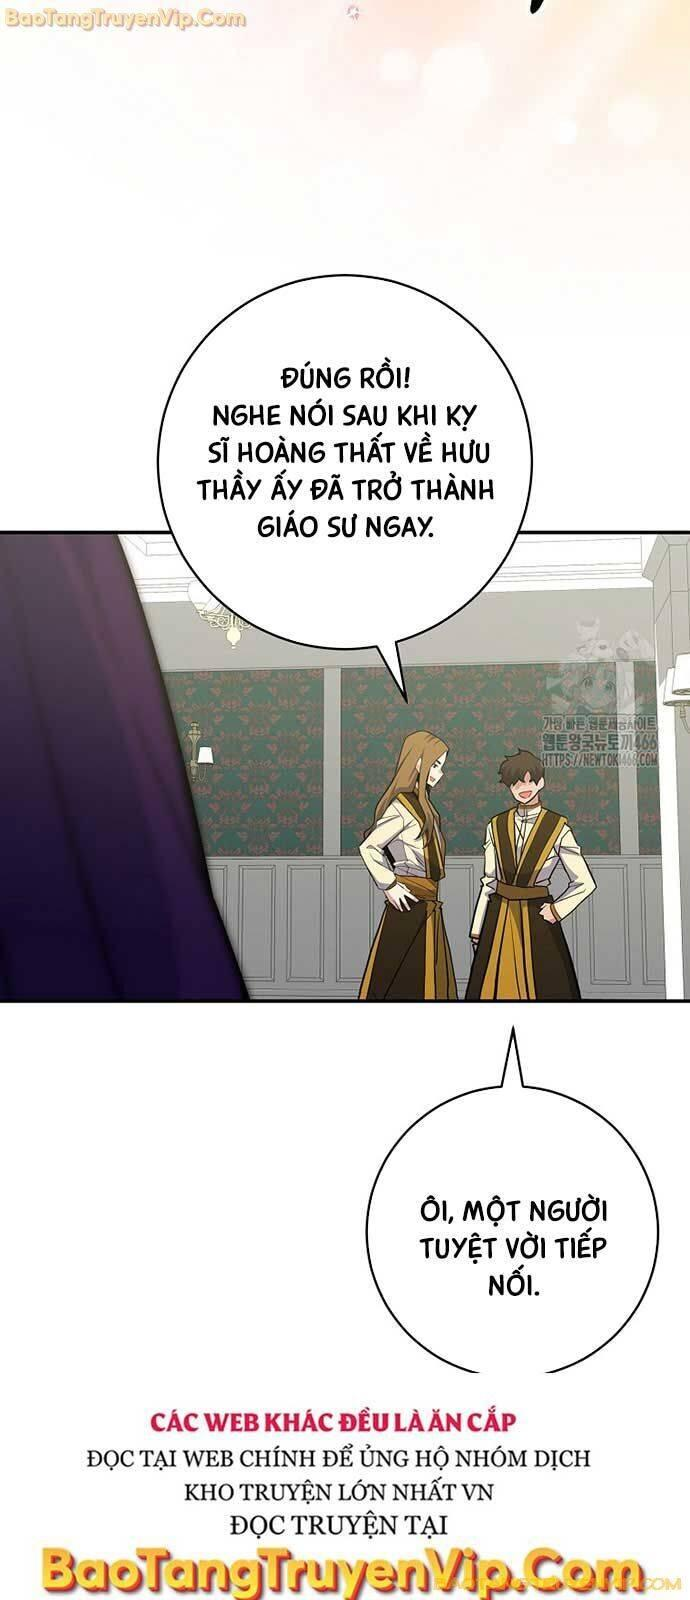quangcao: (44, 1388, 648, 1600)
